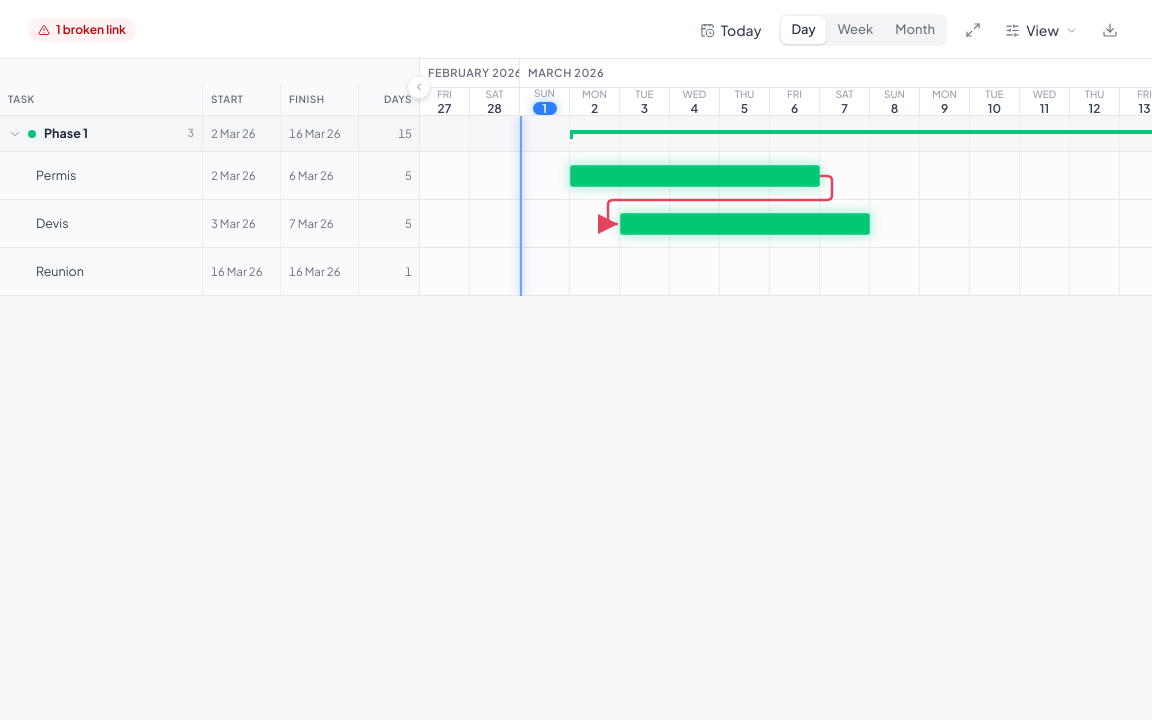
Test case: GanttChart critical path › walks to each broken link, opening its editor to be fixed
What coordinates should you click on to do the following:
click the button "1 broken link"
I would click on:
 (82, 30)
Its box is [28,18,136,42].
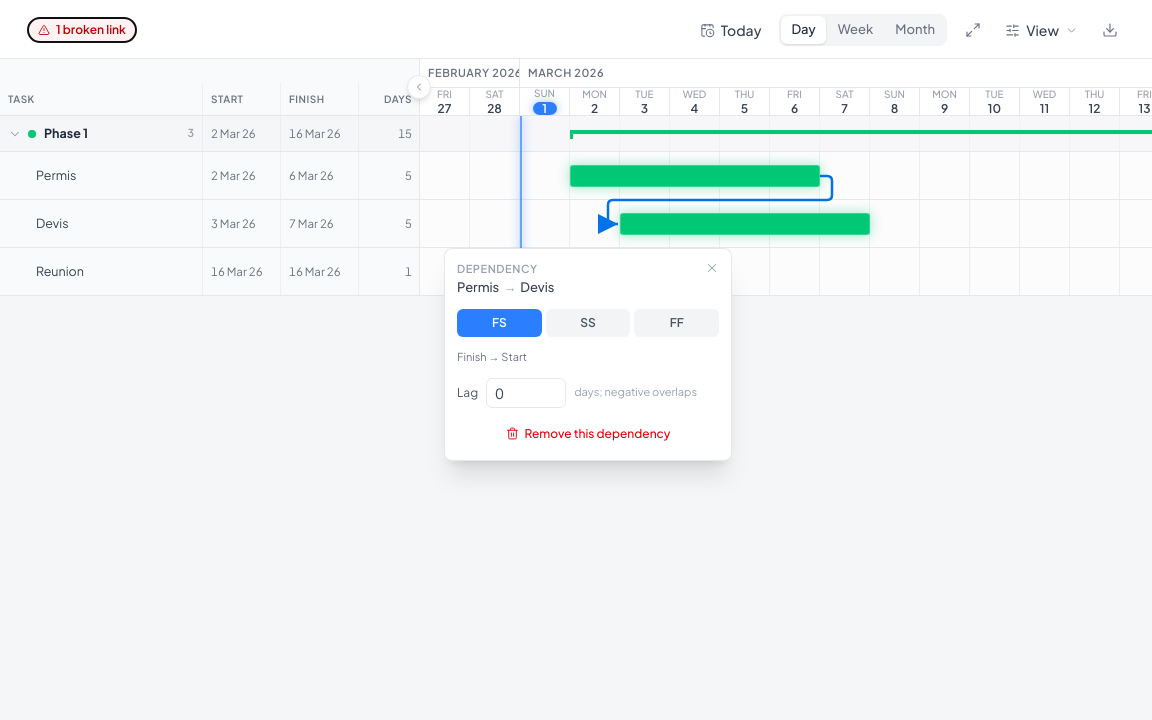
Result: the 2nd text "Permis" is shown at [457,278,499,294]
Result: the 2nd text "Devis" is shown at [520,278,554,294]
Result: the button "SS" is shown at [546,309,630,337]
